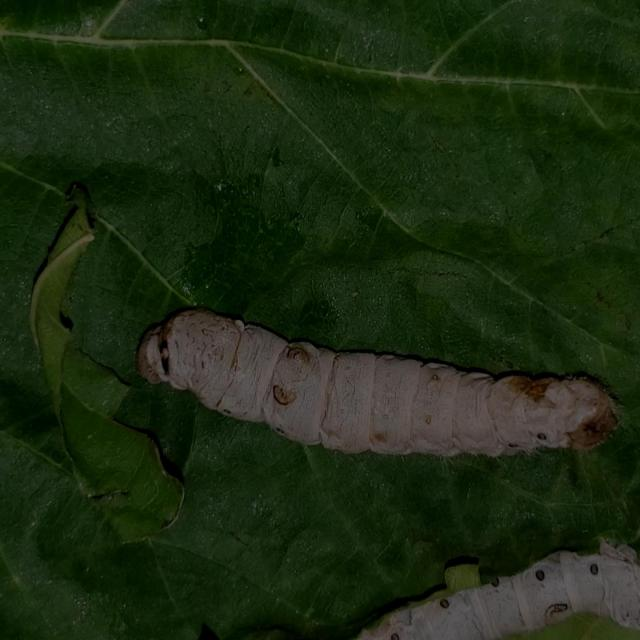Grasserie: (123, 266, 628, 498)
